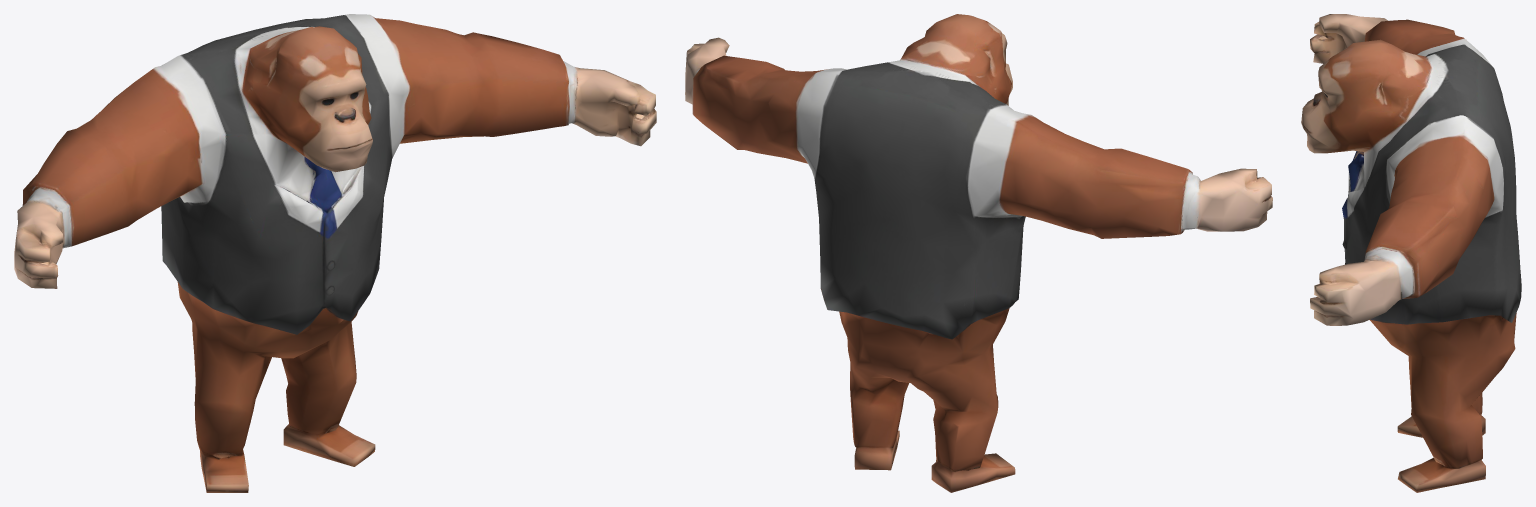
Rendered from Business_Gorilla_1129060538_texture.fbx.
The picture shows the model from 3 angles, left to right: view 1: azimuth 30°, elevation 25°; view 2: azimuth 150°, elevation 25°; view 3: azimuth 270°, elevation 25°; orthographic projection. The views are drawn at different scales.
Visible parts, largest first — view 1: Mesh1.0; view 2: Mesh1.0; view 3: Mesh1.0.
Part boxes in pixels (left/top/right/bottom): Mesh1.0: left=14, top=14, right=656, bottom=492; Mesh1.0: left=685, top=14, right=1272, bottom=492; Mesh1.0: left=1301, top=14, right=1521, bottom=492.
Size of the model in its own units: 191 by 133 by 64.5.
1 material, 1 textured.
